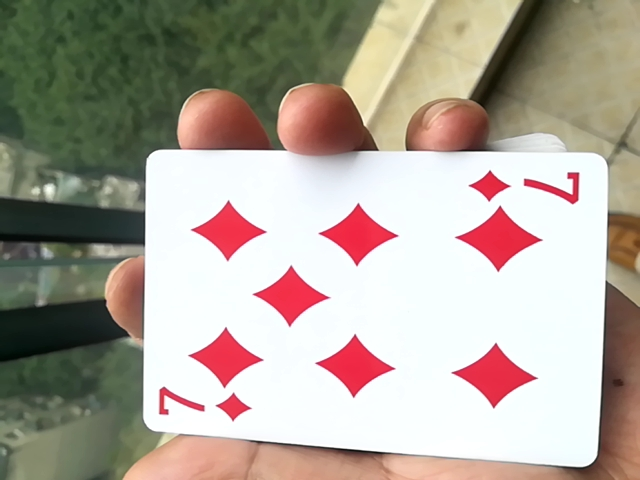fk 7: (129, 152, 610, 471)
